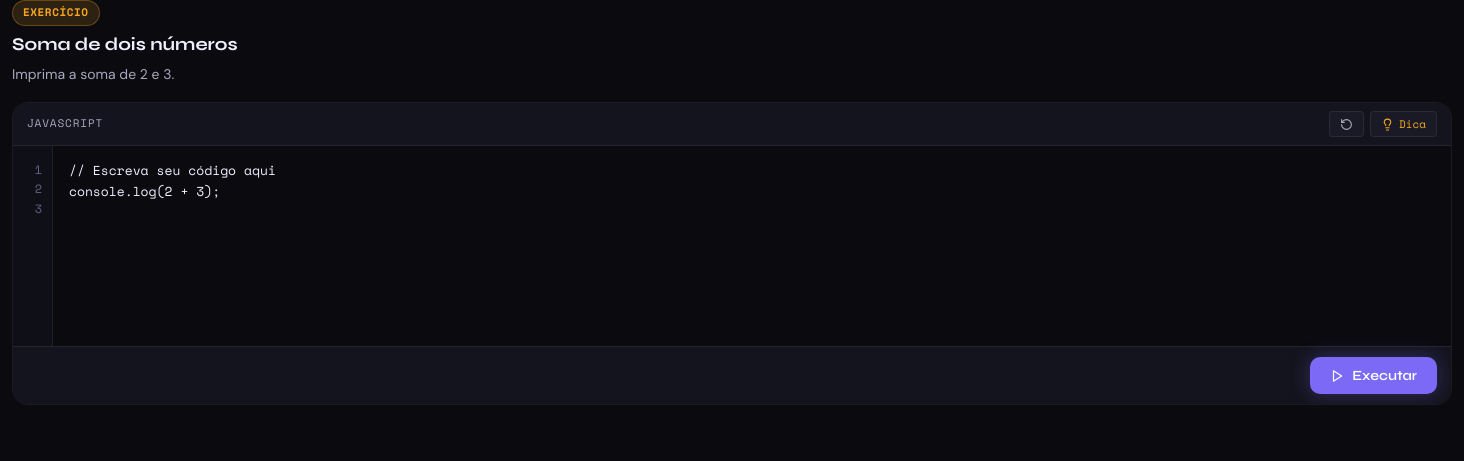
Test: Exercise component › botão Dica mostra o solutionHint
The image size is (1464, 461).
Click the button "Dica" at (1404, 124), box left=1370, top=111, right=1437, bottom=137
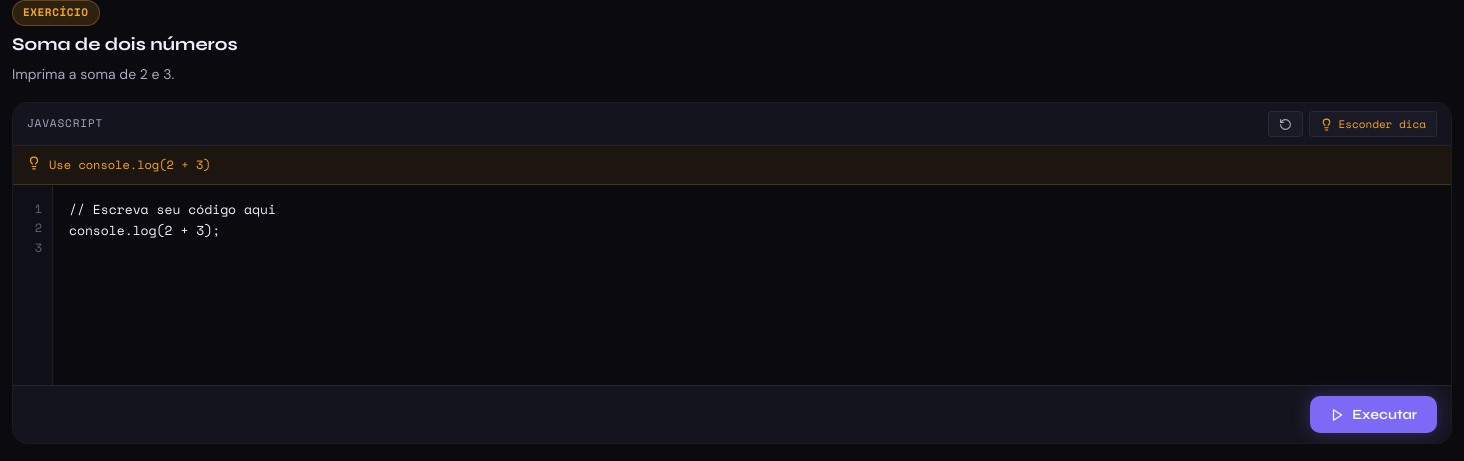
Expected: the text "Use console.log(2 + 3)" is shown, left=49, top=156, right=211, bottom=174
